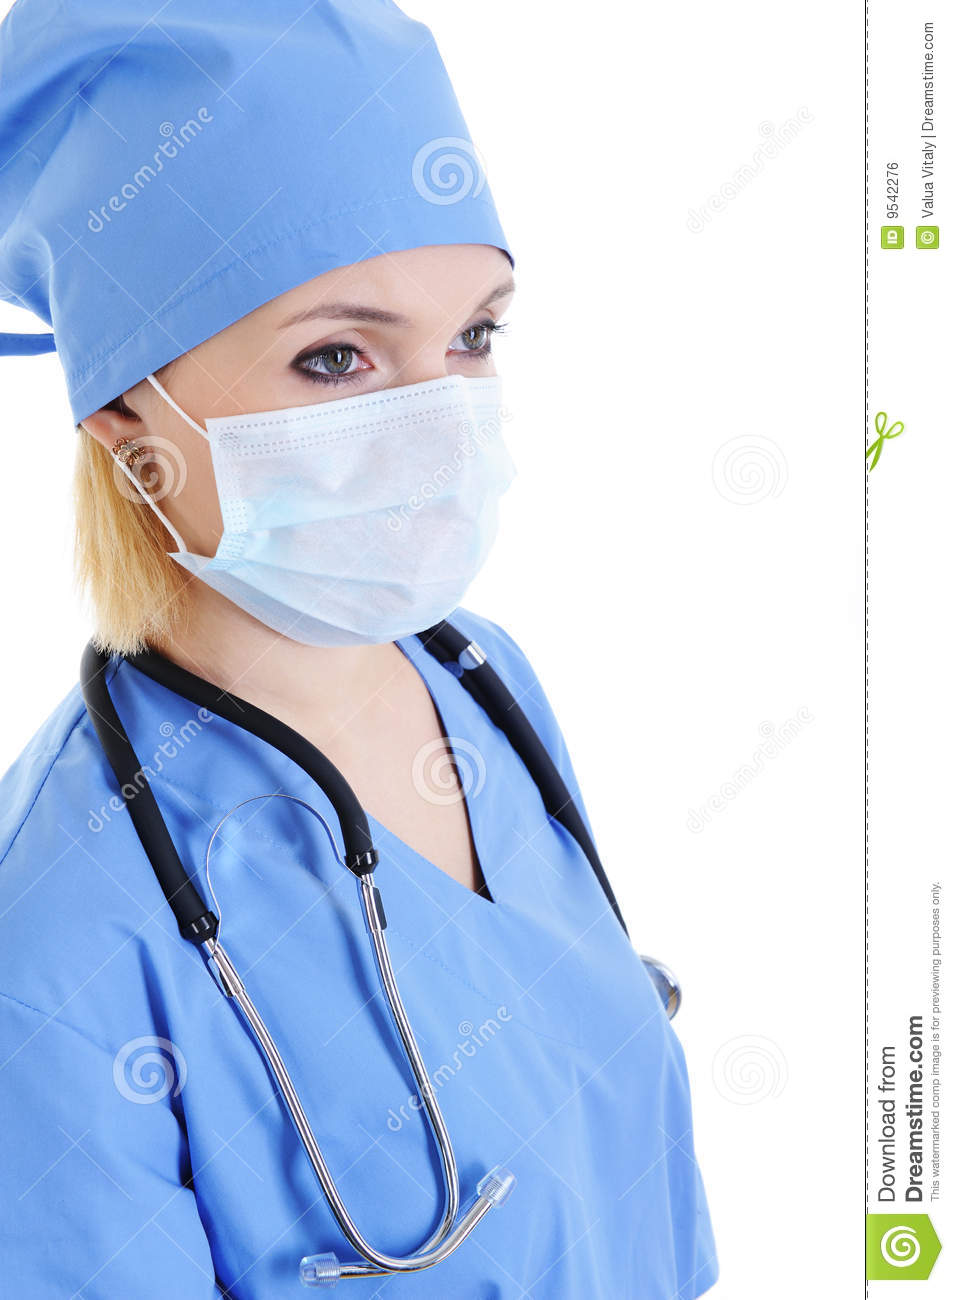mask: (189, 401, 543, 663)
